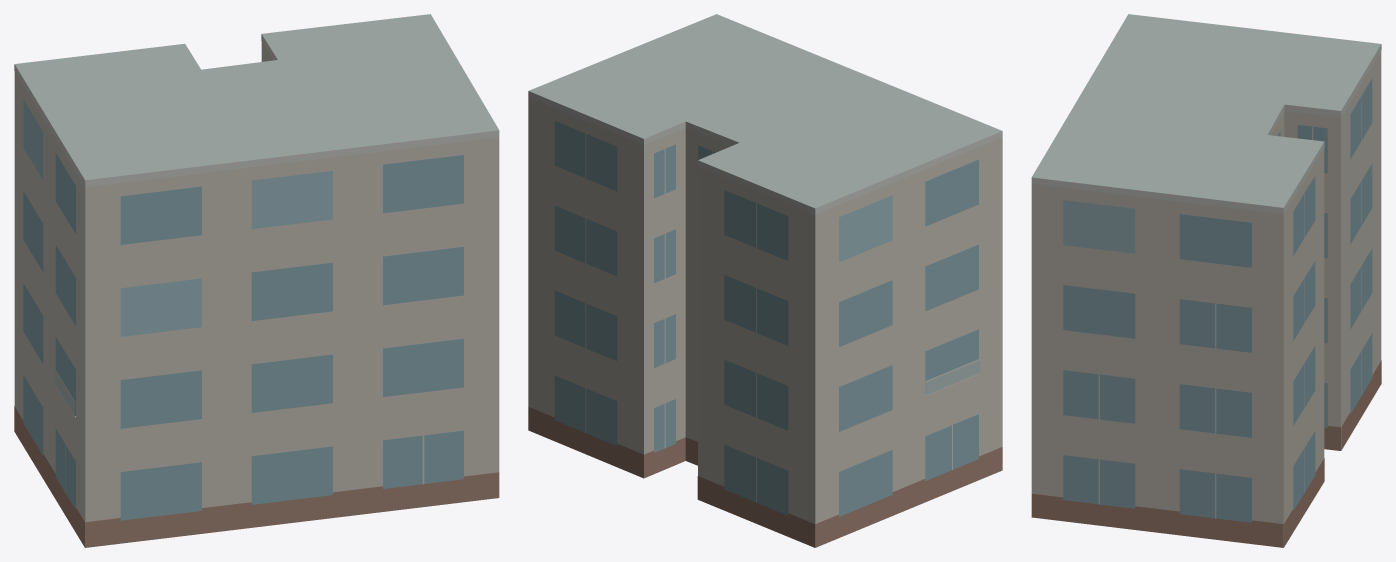
The model's file is survey-upis-32907737.glb.
The picture shows the model from 3 angles, left to right: view 1: azimuth 30°, elevation 25°; view 2: azimuth 150°, elevation 25°; view 3: azimuth 270°, elevation 25°; orthographic projection. The views are drawn at different scales.
Visible parts, largest first — view 1: survey-upis-32907737.tmp; view 2: survey-upis-32907737.tmp; view 3: survey-upis-32907737.tmp.
Part boxes in pixels (x1,y1,x2,y2): survey-upis-32907737.tmp: (14, 14, 499, 547); survey-upis-32907737.tmp: (528, 14, 1002, 547); survey-upis-32907737.tmp: (1031, 14, 1381, 547).
Size of the model in its own units: 16.03 by 13.1 by 12.23.
